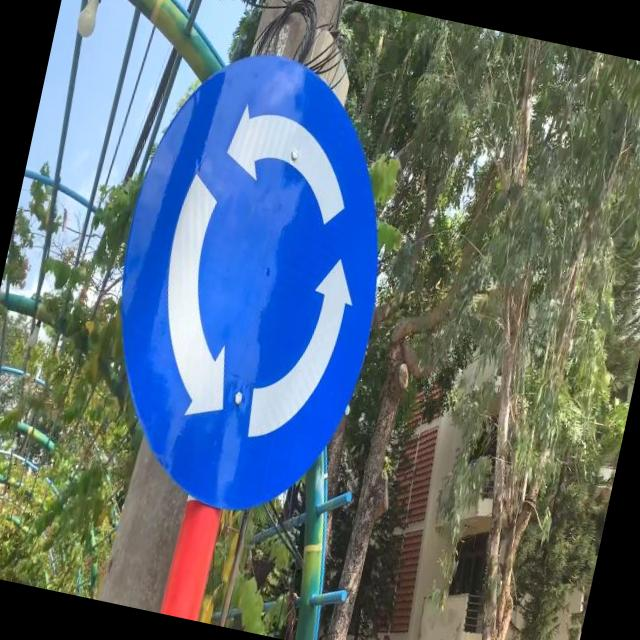R-303: (78, 33, 422, 529)
